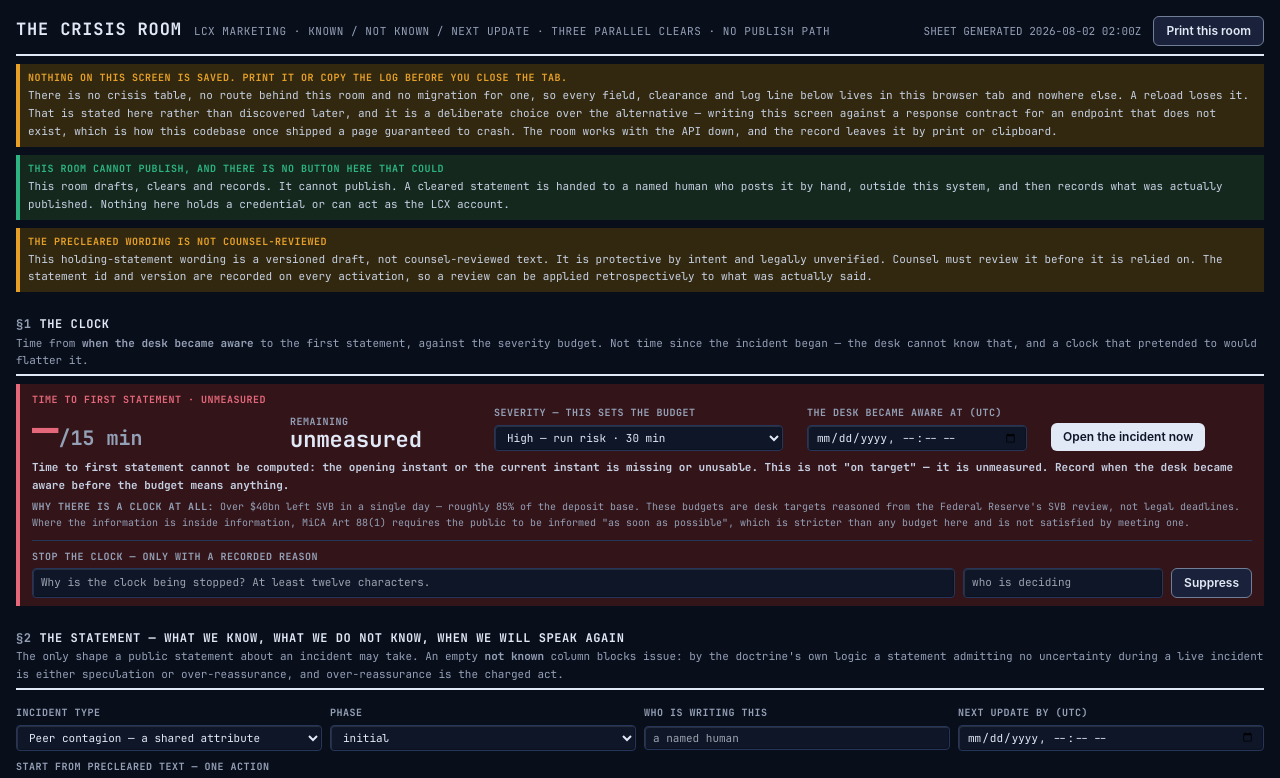
Test case: suppressing the clock › suppresses with a reason, and does not erase the elapsed figure
The image size is (1280, 778).
Step 1. Click the button "Open the incident now" → x=1128, y=437, box [1051,423,1205,451]
Wait 1200000 ms
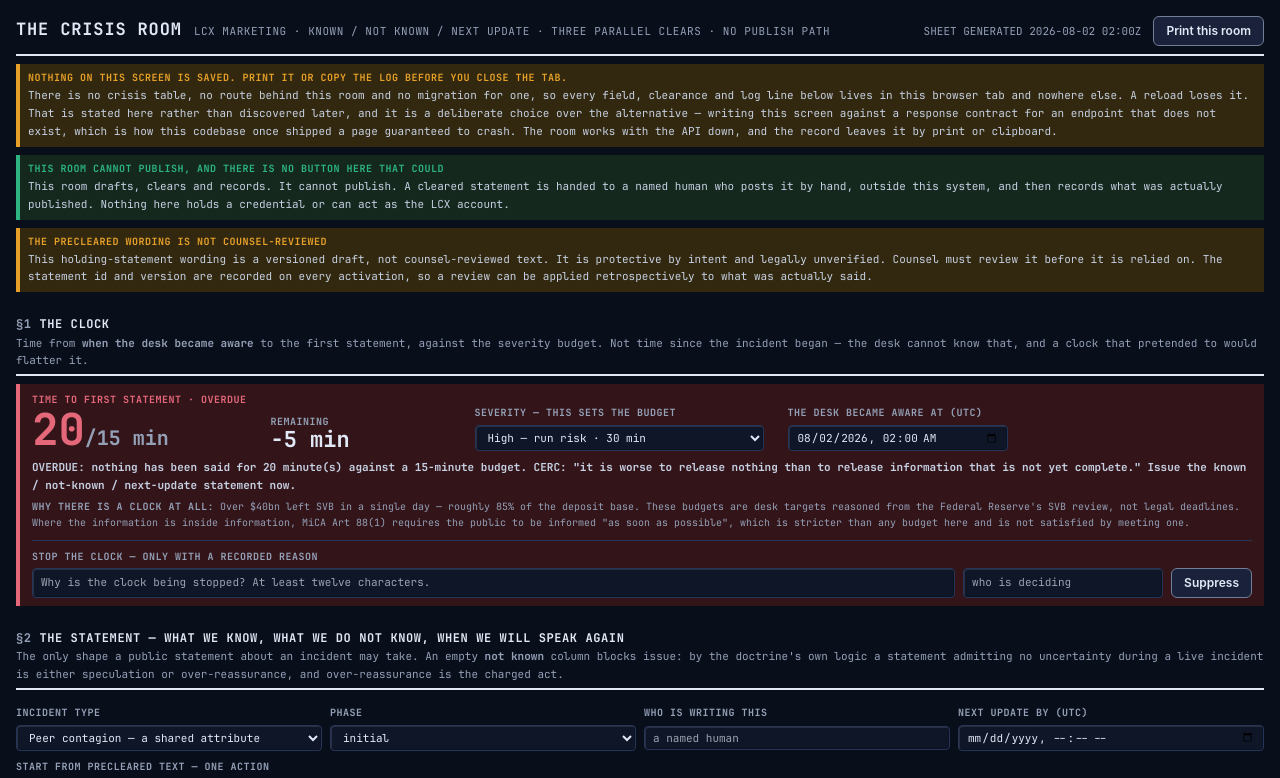
Step 2. Type "security has the incident channel and asked comms to hold" into the field named "Suppression reason" → x=494, y=583, box [32,568,955,598]
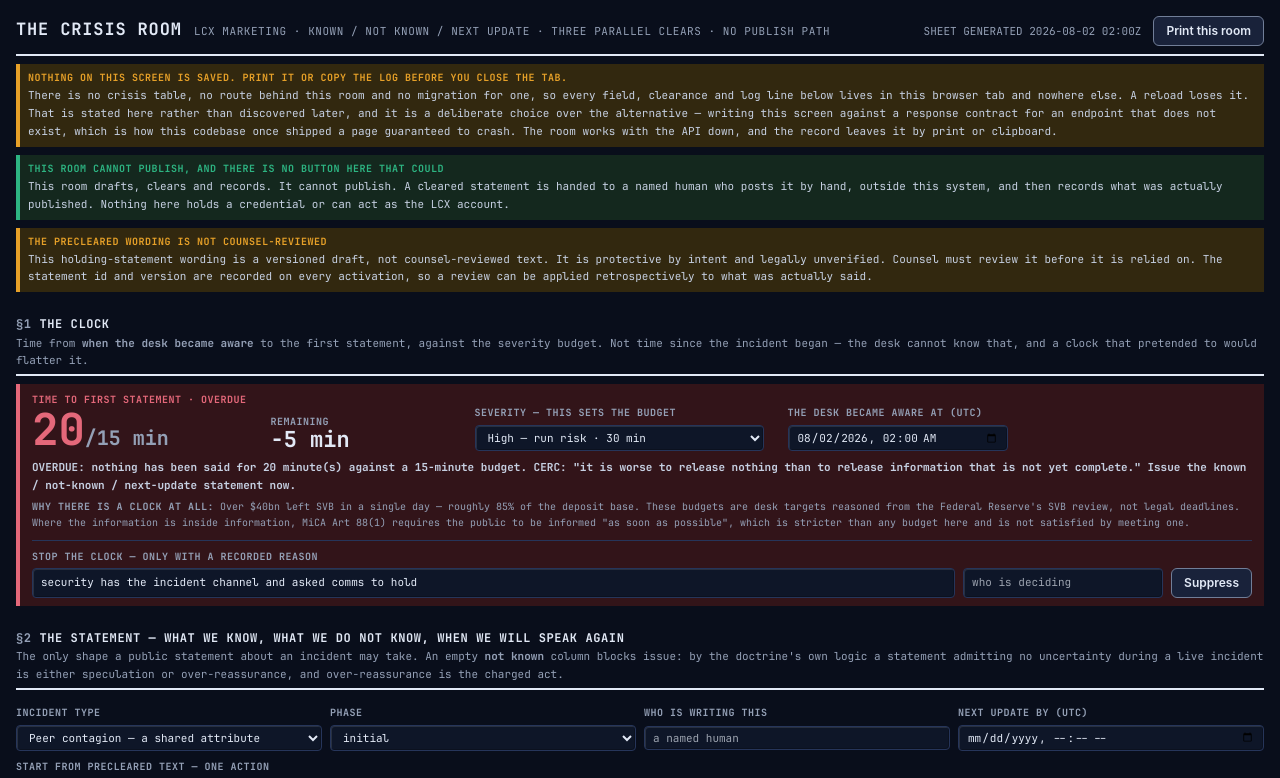
Step 3. Type "nik" into the field named "Suppressed by" → x=1063, y=583, box [963,568,1163,598]
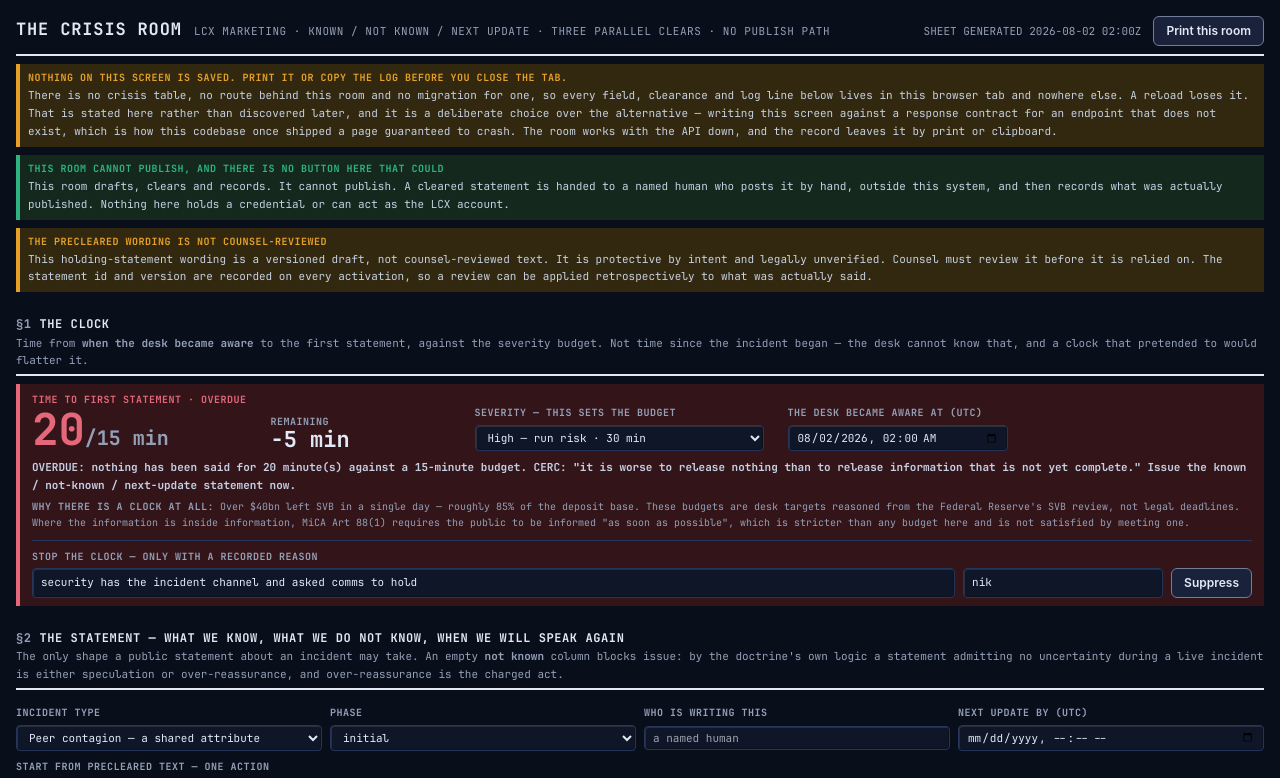
Step 4. Click the button "Suppress" → x=1212, y=583, box [1171,568,1252,598]
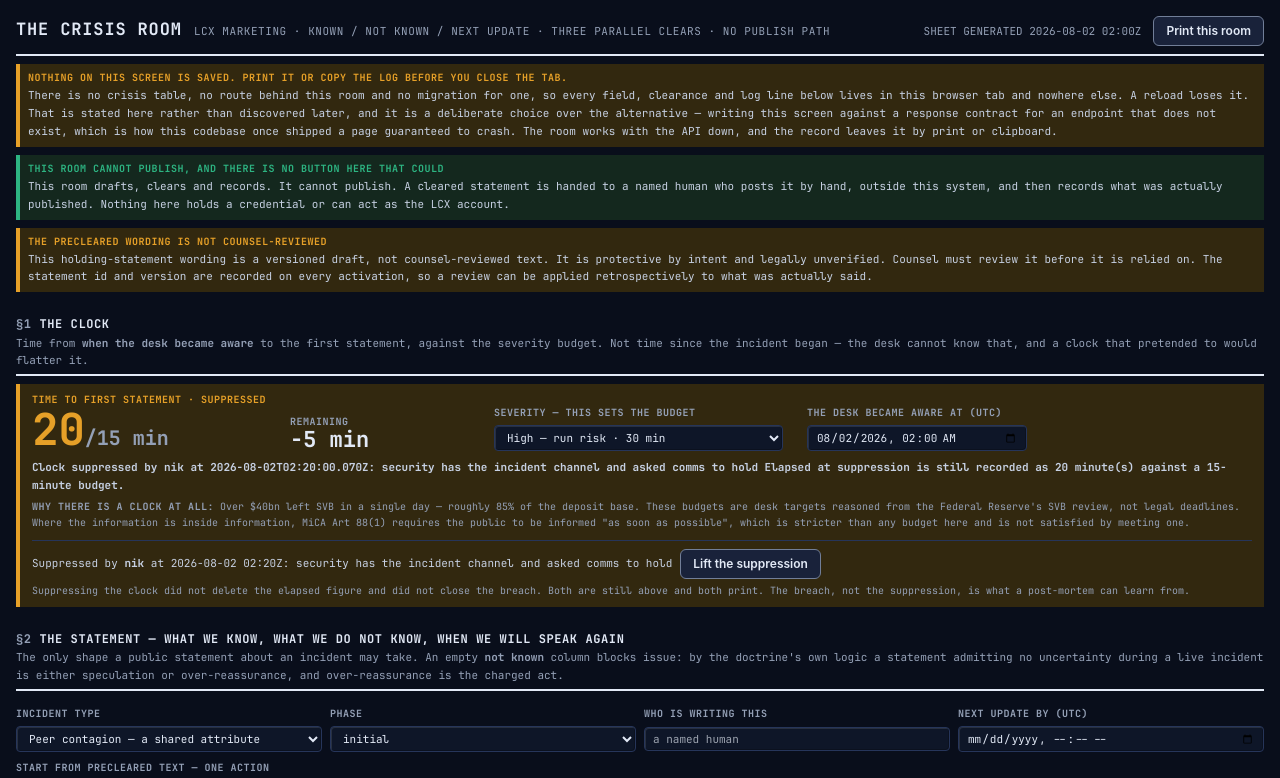
Expected: the element with test id "clock-elapsed" shows "20", [32,400,85,458]
Expected: the text with test id "suppression-kept" shows "did not delete the elapsed figure and did not close the breach", [32,584,1190,597]
